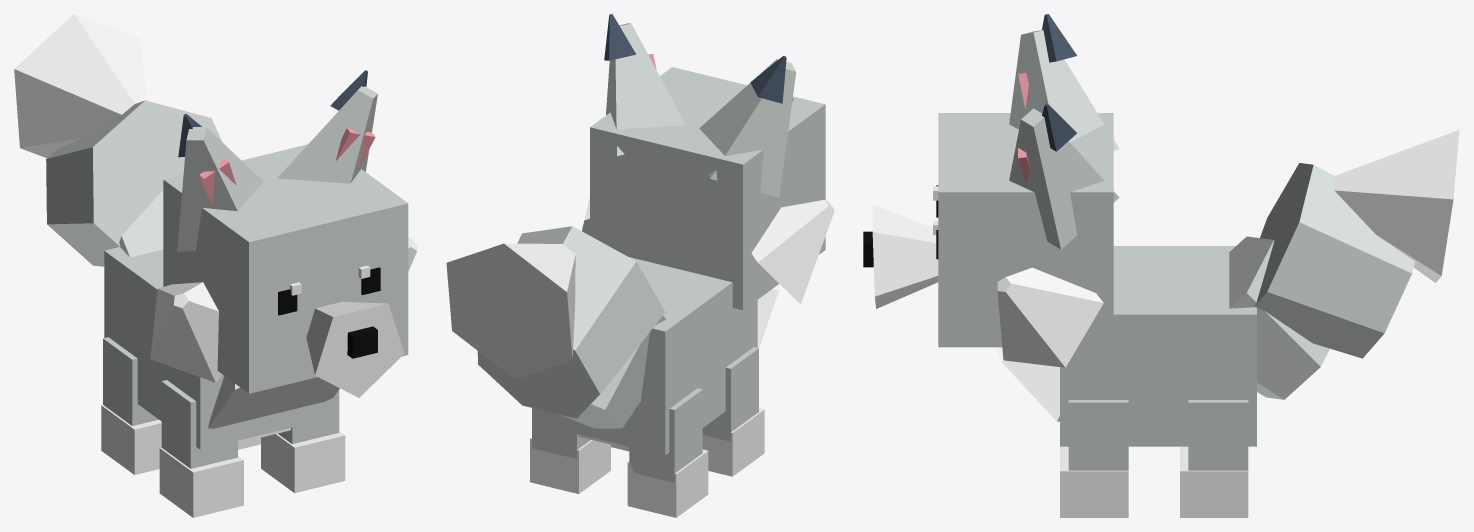
Rendered from fox.fbx.
The picture shows the model from 3 angles, left to right: view 1: azimuth 30°, elevation 25°; view 2: azimuth 150°, elevation 25°; view 3: azimuth 270°, elevation 25°; orthographic projection. The views are drawn at different scales.
Parts seen in each view (by area): view 1: Head, Tail, Ears, Torso, Leg_FL, Muzzle, Leg_BL, Leg_FR, ChestFluff, Eyes; view 2: Head, Tail, Torso, Ears, Leg_BL, Leg_FL, Leg_BR, ChestFluff; view 3: Tail, Head, Torso, Ears, Leg_BR, Leg_FR, Muzzle, ChestFluff.
Part boxes in pixels (x1,y1,x2,y2): Head: (150,144,417,393); Tail: (14,14,221,266); Ears: (177,70,377,251); Torso: (104,247,337,449); Leg_FL: (159,380,243,517); Muzzle: (306,301,404,397); Leg_BL: (101,337,161,474); Leg_FR: (261,390,345,493); ChestFluff: (208,376,339,428); Eyes: (278,265,380,315); Head: (582,67,834,310); Tail: (446,226,665,428); Torso: (533,257,757,455); Ears: (604,14,796,197); Leg_BL: (627,388,708,517); Leg_FL: (702,347,764,476); Leg_BR: (530,408,610,493); ChestFluff: (757,286,779,348); Tail: (1229,130,1459,399); Head: (938,113,1113,367); Torso: (1060,246,1256,446); Ears: (1009,14,1119,249); Leg_BR: (1180,400,1248,517); Leg_FR: (1060,400,1128,517); Muzzle: (863,204,938,308); ChestFluff: (995,347,1059,421).
Size of the model in its own units: 1.35 by 2.17 by 2.79.
